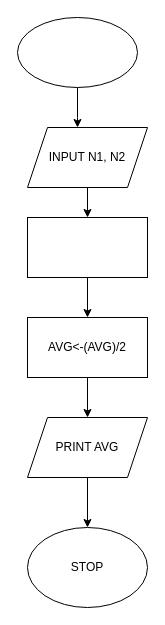
The diagram is 165 pixels wide and 625 high, and some of its shapes have lost their labels. The centre of each missing label's shape, as x and y in pixels:
"AVG<-(N1+N2)" goes at (x=87, y=247).
"START" goes at (x=77, y=52).
